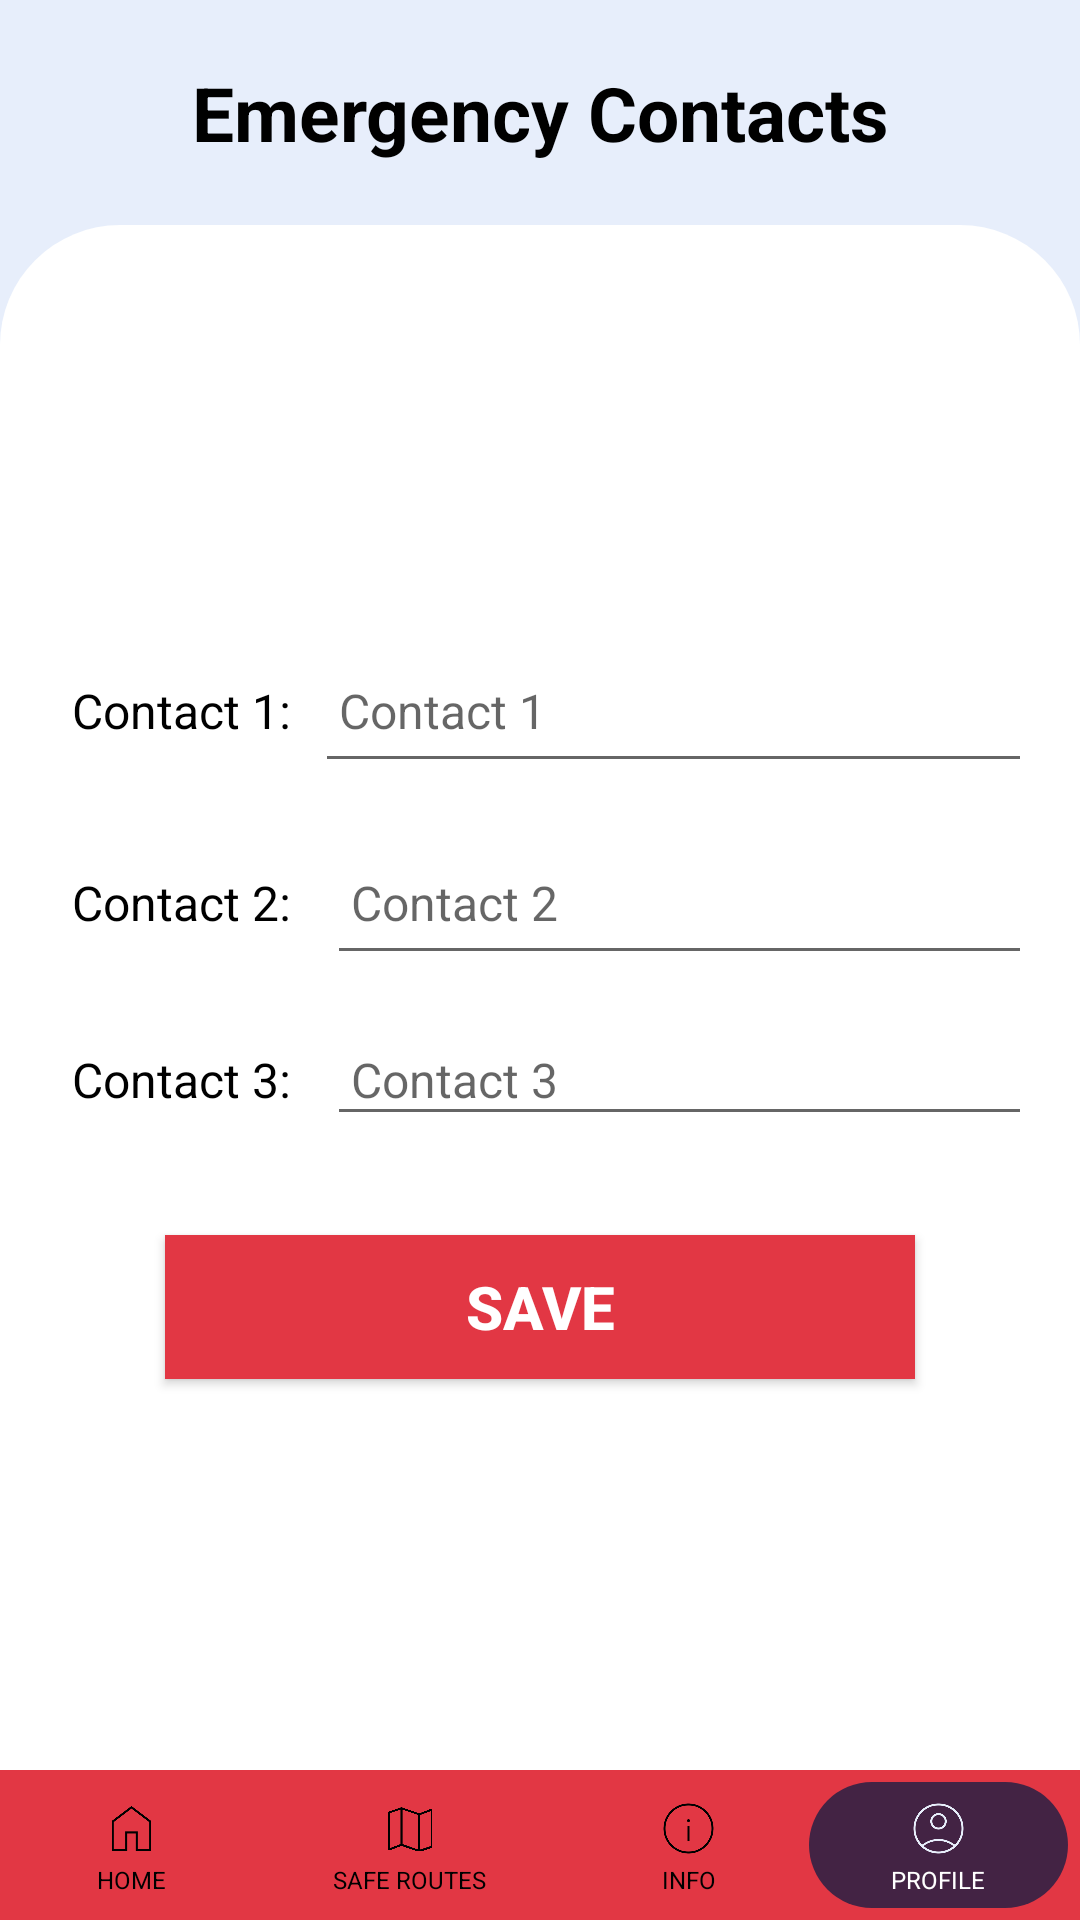

Where to tap for icons on this 1080 x 1920 app screen, as point (x, y):
map: point (410, 1829)
